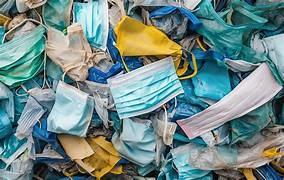Mask: (177, 63, 281, 138), (195, 0, 283, 83), (108, 57, 183, 118), (195, 0, 266, 58), (186, 132, 283, 169), (114, 16, 181, 67), (58, 135, 121, 178), (0, 25, 44, 86), (46, 24, 92, 80), (47, 81, 93, 136), (112, 118, 155, 166), (157, 145, 212, 179), (192, 51, 230, 100), (230, 102, 274, 143), (222, 1, 283, 30), (73, 0, 108, 49), (81, 136, 121, 178), (79, 81, 113, 126), (13, 75, 46, 120), (33, 118, 67, 158), (253, 34, 283, 79), (170, 145, 209, 179), (15, 96, 44, 138), (150, 6, 201, 29), (149, 11, 188, 39), (177, 79, 208, 112), (0, 134, 31, 165), (79, 81, 113, 108), (42, 0, 72, 30), (57, 134, 93, 159), (151, 109, 176, 144), (0, 152, 32, 179), (127, 0, 180, 14), (35, 140, 66, 163), (46, 57, 73, 82), (88, 63, 121, 83), (171, 99, 202, 120), (200, 124, 229, 146), (28, 88, 54, 110), (0, 82, 14, 122), (93, 93, 109, 127), (6, 21, 35, 39), (156, 119, 176, 144), (107, 28, 121, 62), (87, 119, 112, 138), (13, 88, 27, 121), (254, 164, 282, 179), (225, 59, 259, 71), (93, 51, 113, 71), (157, 159, 177, 179), (108, 1, 124, 26), (46, 57, 63, 80), (211, 124, 230, 144), (87, 111, 102, 135), (16, 0, 46, 12), (0, 109, 12, 138), (134, 163, 155, 179), (7, 13, 27, 29), (179, 34, 198, 50), (214, 169, 244, 179), (124, 56, 143, 70), (124, 56, 142, 70), (109, 111, 121, 132), (0, 0, 14, 15), (183, 0, 200, 10), (276, 102, 283, 124), (0, 14, 11, 26), (0, 26, 4, 43), (245, 0, 253, 2)
